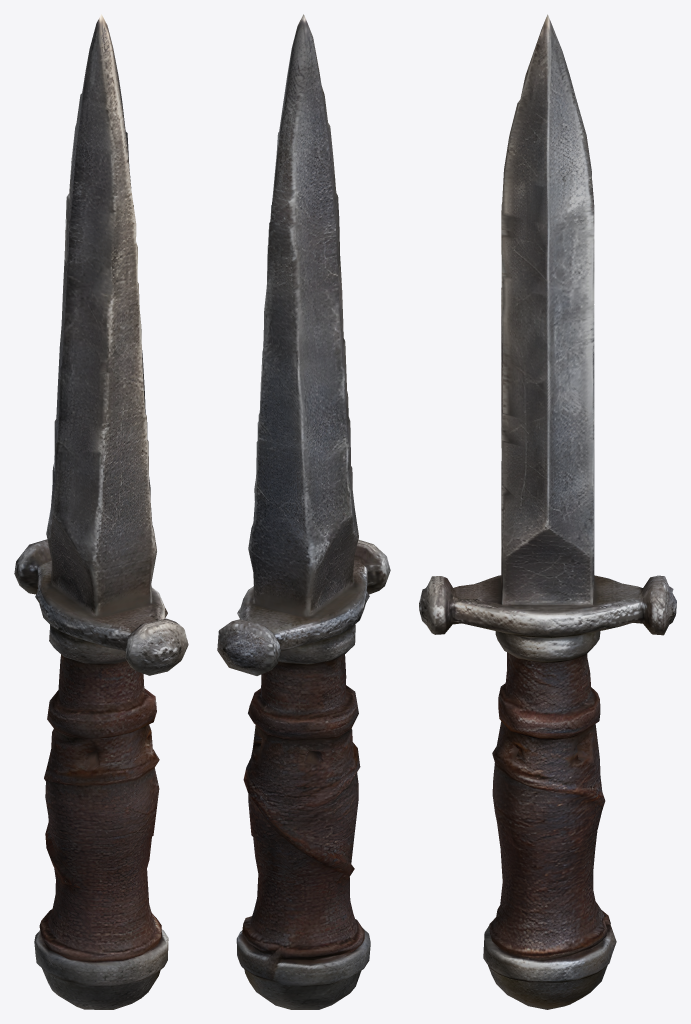
File: faca.glb
3 renders of one model, left to right at view 1: azimuth 30°, elevation 25°; view 2: azimuth 150°, elevation 25°; view 3: azimuth 270°, elevation 25°, orthographic.
Visible parts, largest first — view 1: tripo_node_85341733-1e06-490c-a4a9-0a7d6e3e46be; view 2: tripo_node_85341733-1e06-490c-a4a9-0a7d6e3e46be; view 3: tripo_node_85341733-1e06-490c-a4a9-0a7d6e3e46be.
Part boxes in pixels (bbox=[...]): tripo_node_85341733-1e06-490c-a4a9-0a7d6e3e46be: bbox=[14, 14, 188, 1009]; tripo_node_85341733-1e06-490c-a4a9-0a7d6e3e46be: bbox=[217, 14, 390, 1009]; tripo_node_85341733-1e06-490c-a4a9-0a7d6e3e46be: bbox=[419, 14, 676, 1009].
Bounding box in the file's own units: 0.0303 × 0.25 × 0.0592.
1 material, 1 textured.
